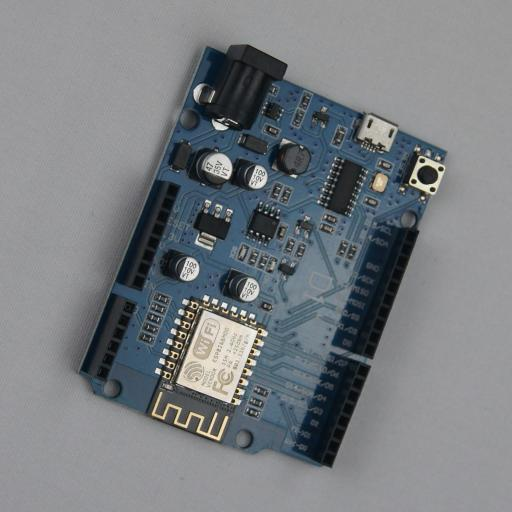Arduino Uno WiFi Shield: (72, 44, 446, 468)
